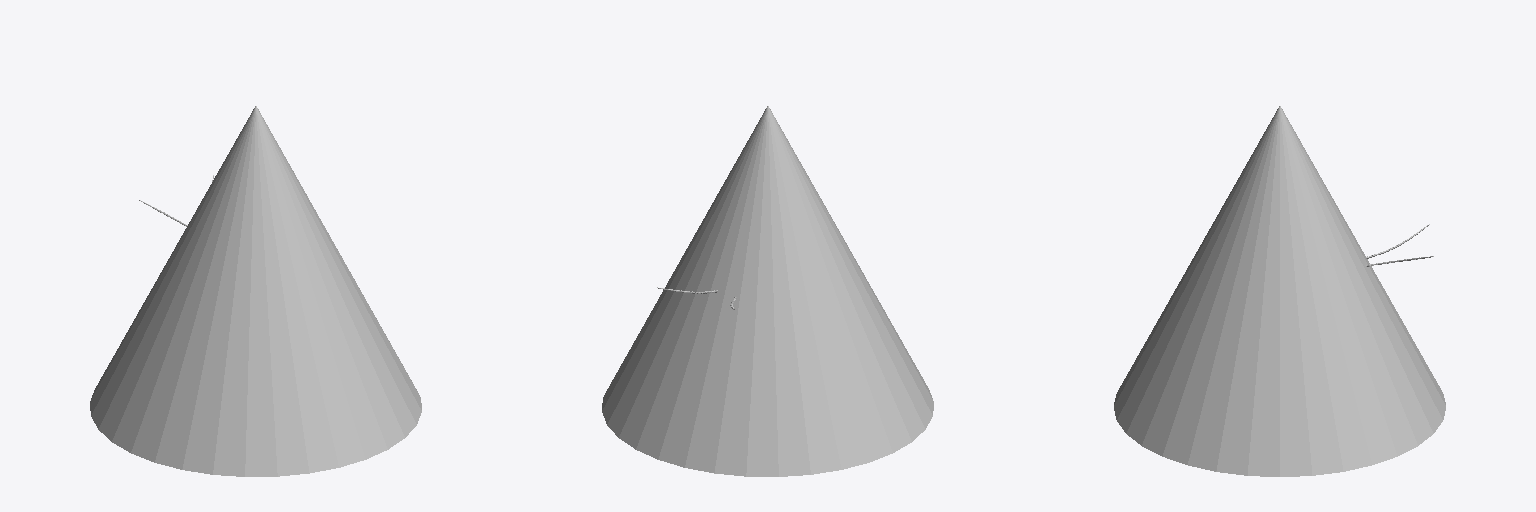
The picture shows the model from 3 angles: view 1: azimuth 30°, elevation 25°; view 2: azimuth 150°, elevation 25°; view 3: azimuth 270°, elevation 25°; orthographic projection.
Parts seen in each view (by area): view 1: Cone; view 2: Cone; view 3: Cone.
Part boxes in pixels (left/top/right/bottom): Cone: left=90, top=106, right=421, bottom=476; Cone: left=602, top=106, right=933, bottom=476; Cone: left=1114, top=106, right=1445, bottom=476.
Size of the model in its own units: 12.74 by 12.74 by 12.74.